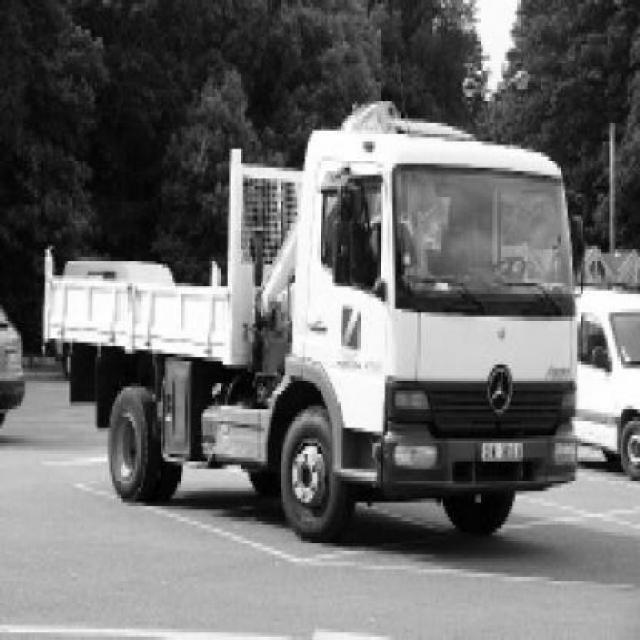Box Truck: (42, 101, 576, 544)
